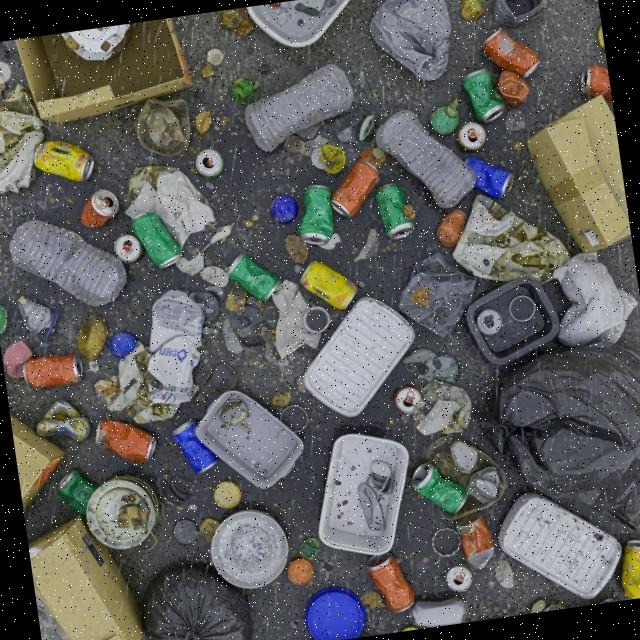aluminum: (89, 408, 161, 470), (122, 207, 186, 275), (27, 132, 102, 190), (406, 458, 472, 522), (322, 154, 385, 220), (482, 23, 544, 86), (15, 345, 90, 396), (362, 550, 418, 618), (220, 246, 282, 306), (293, 182, 338, 250), (169, 416, 216, 478), (451, 516, 502, 572), (466, 151, 514, 203), (374, 179, 413, 242), (578, 61, 612, 108)
plastic: (4, 202, 124, 319), (368, 102, 478, 218), (236, 61, 362, 157)
